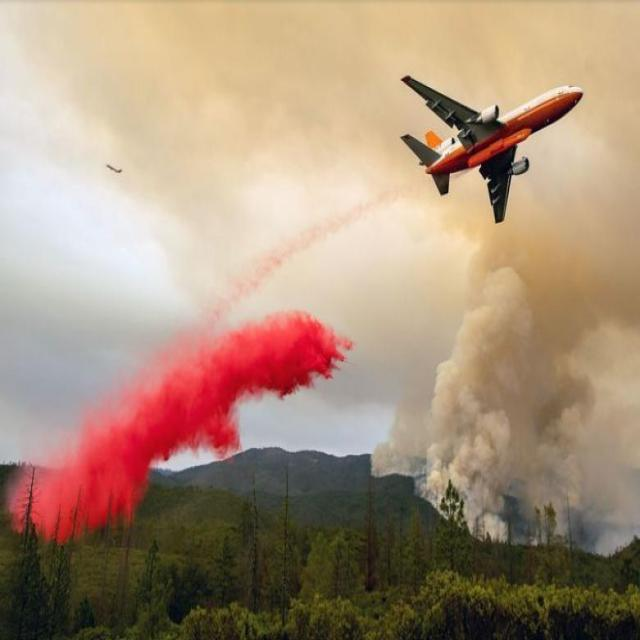Smoke: (409, 228, 622, 530)
